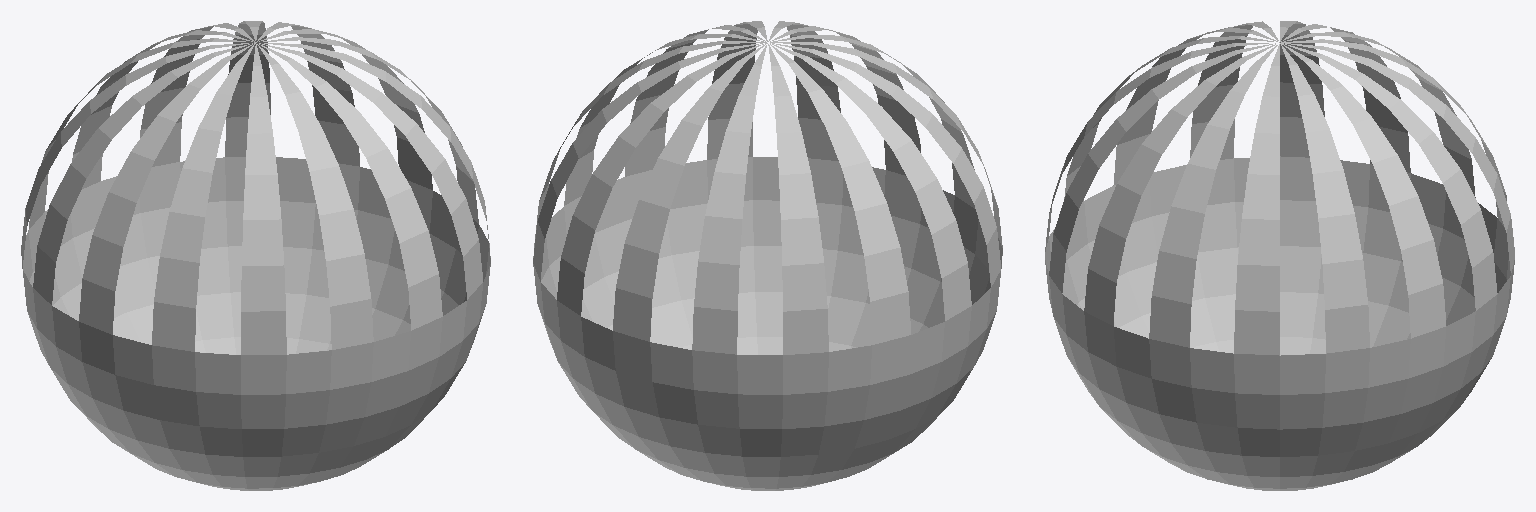
Rendered from modified_spheres.obj.
3 views of the same model, side by side, from view 1: azimuth 30°, elevation 25°; view 2: azimuth 150°, elevation 25°; view 3: azimuth 270°, elevation 25° (orthographic).
Visible parts, largest first — view 1: Sphere; view 2: Sphere; view 3: Sphere.
Part boxes in pixels (bbox=[...]): Sphere: bbox=[21, 21, 490, 490]; Sphere: bbox=[533, 21, 1002, 490]; Sphere: bbox=[1045, 21, 1514, 490].
Bounding box in the file's own units: 1 × 1 × 1.